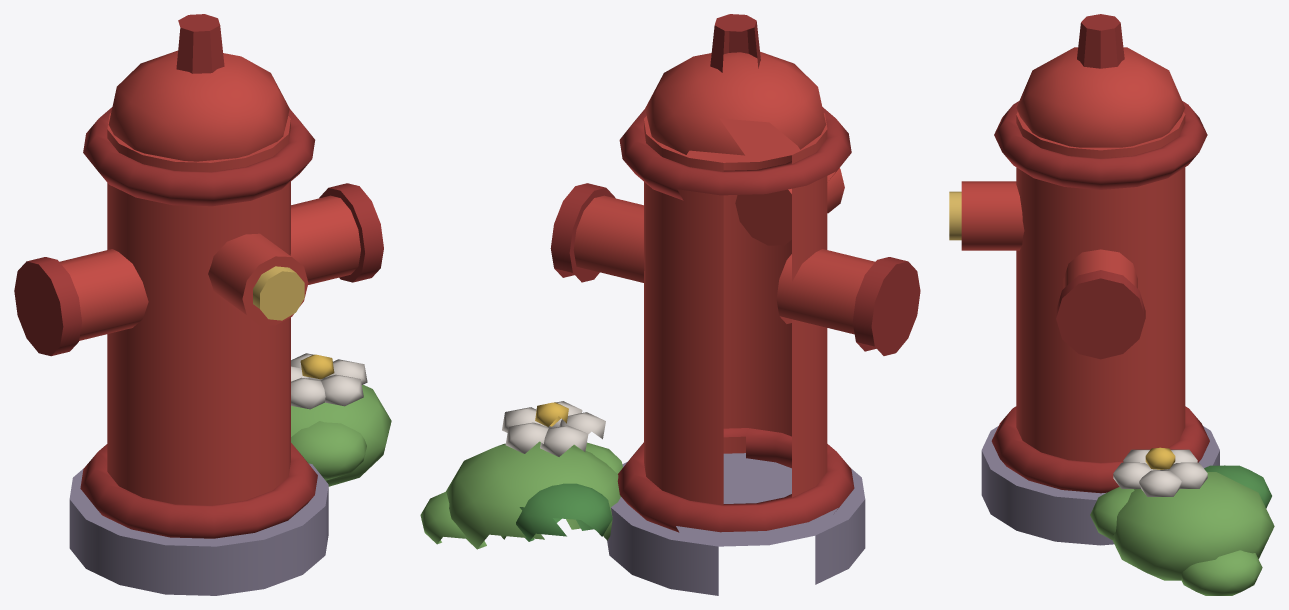
The model's file is ac_hydrant.glb.
3 views of the same model, side by side, from view 1: azimuth 30°, elevation 25°; view 2: azimuth 150°, elevation 25°; view 3: azimuth 270°, elevation 25° (orthographic). The views are drawn at different scales.
Parts seen in each view (by area): view 1: body; view 2: body; view 3: body.
Part boxes in pixels (box(x1,y1,x2,y2)): body: box(14, 14, 391, 595); body: box(420, 14, 920, 595); body: box(949, 14, 1274, 595).
Bounding box in the file's own units: 0.8553 × 1.06 × 0.655.
